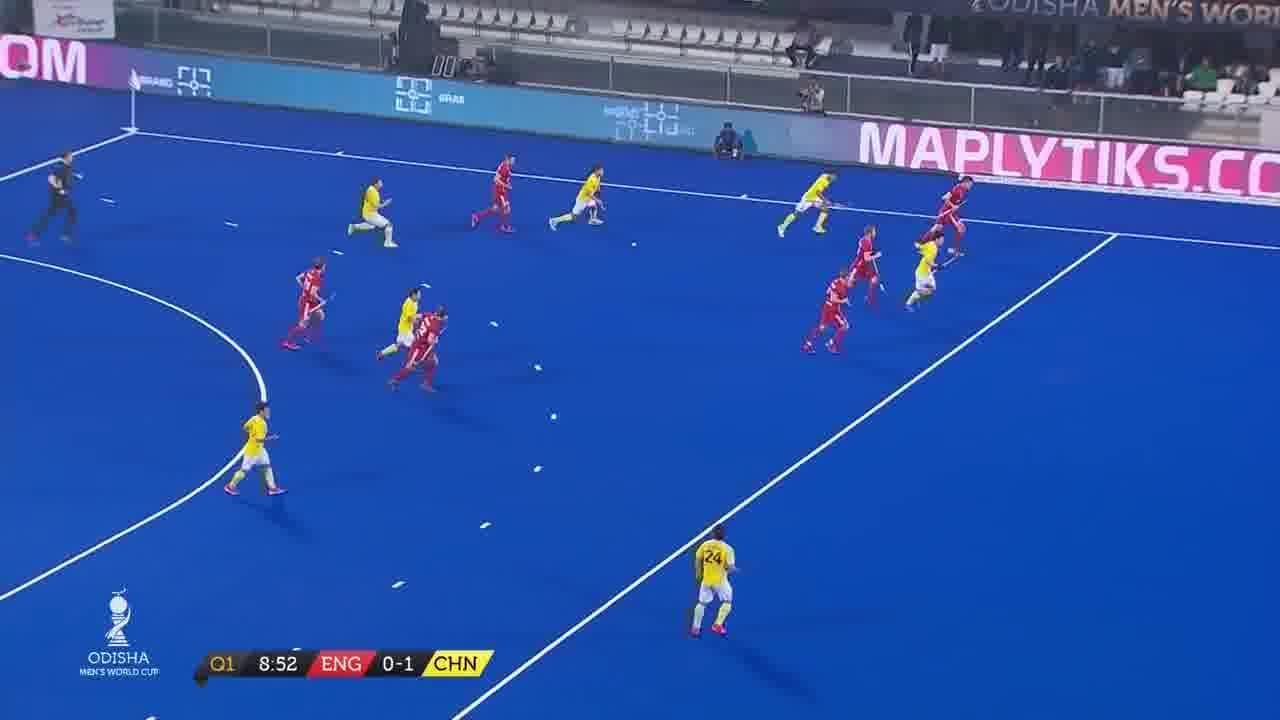ball: (628, 241, 642, 250)
